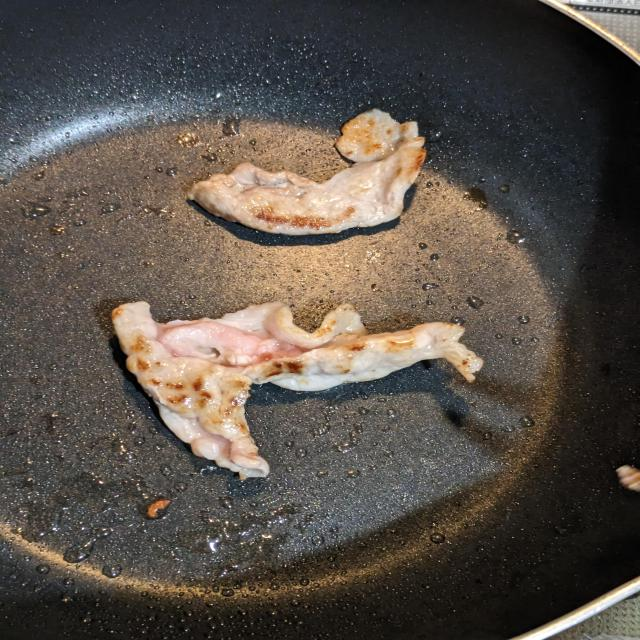NG undercooked pork,: (90, 291, 488, 483), (173, 100, 431, 239)
